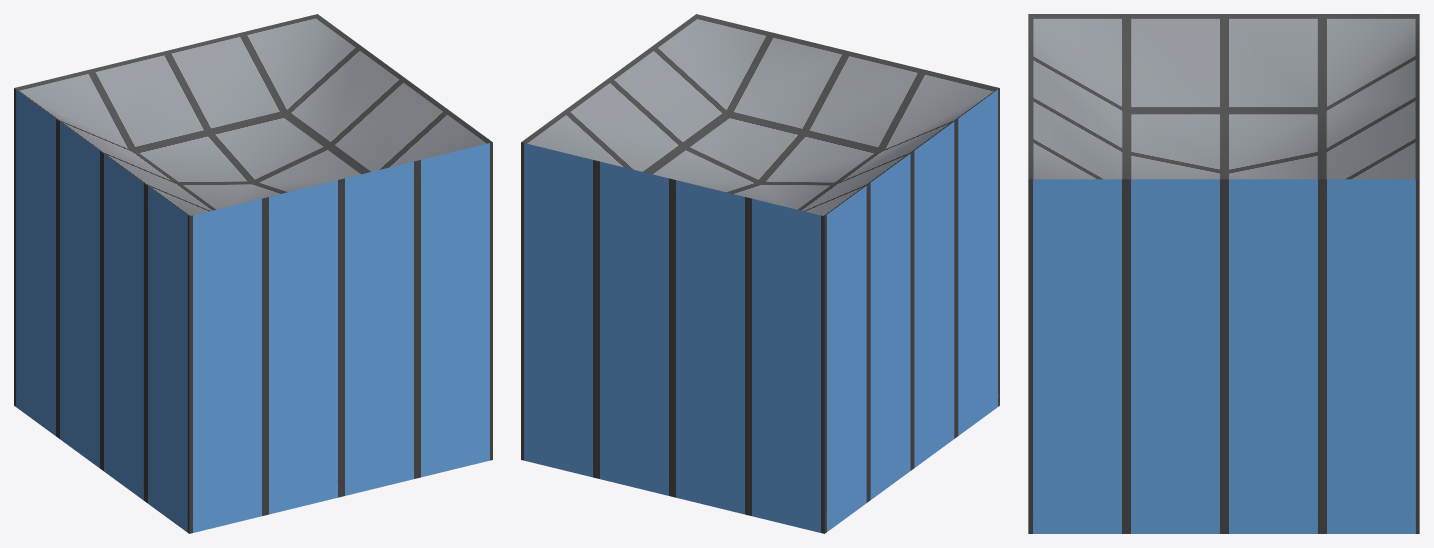
File: concave_4x4_04.fbx
3 renders of one model, left to right at view 1: azimuth 30°, elevation 25°; view 2: azimuth 150°, elevation 25°; view 3: azimuth 270°, elevation 25°, orthographic. The views are drawn at different scales.
Parts seen in each view (by area): view 1: concave_4x4_04; view 2: concave_4x4_04; view 3: concave_4x4_04.
Part boxes in pixels (<box>): concave_4x4_04: <box>14,14,492,533</box>; concave_4x4_04: <box>521,14,999,533</box>; concave_4x4_04: <box>1028,14,1419,533</box>.
Size of the model in its own units: 320 by 320 by 320.
Materials: 2 (2 with a texture image).
